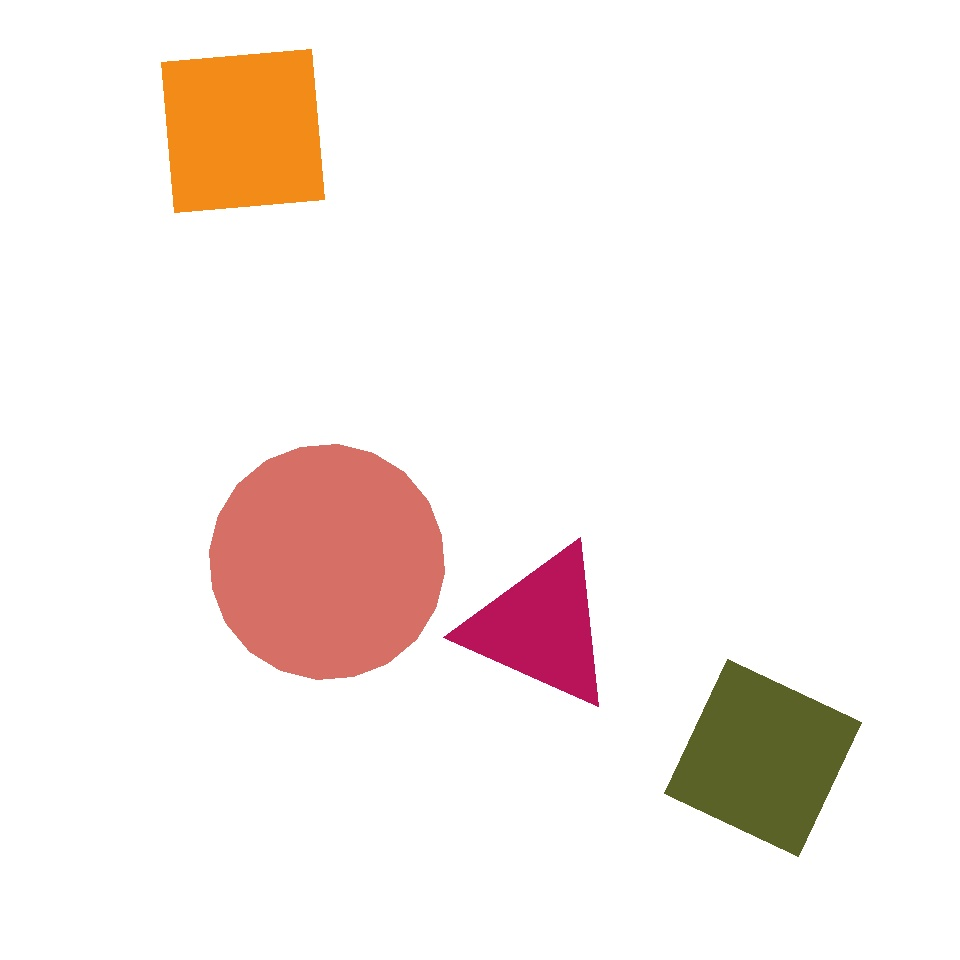circle: (90, 232, 283, 454), (464, 542, 618, 712)
square: (588, 638, 884, 933), (664, 660, 862, 856), (162, 49, 324, 212)
triangle: (60, 257, 364, 562), (382, 402, 657, 676), (210, 445, 444, 680), (114, 106, 302, 294)
